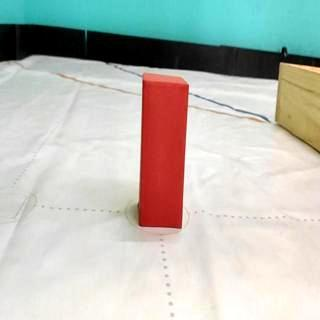redbox: (140, 72, 188, 229)
